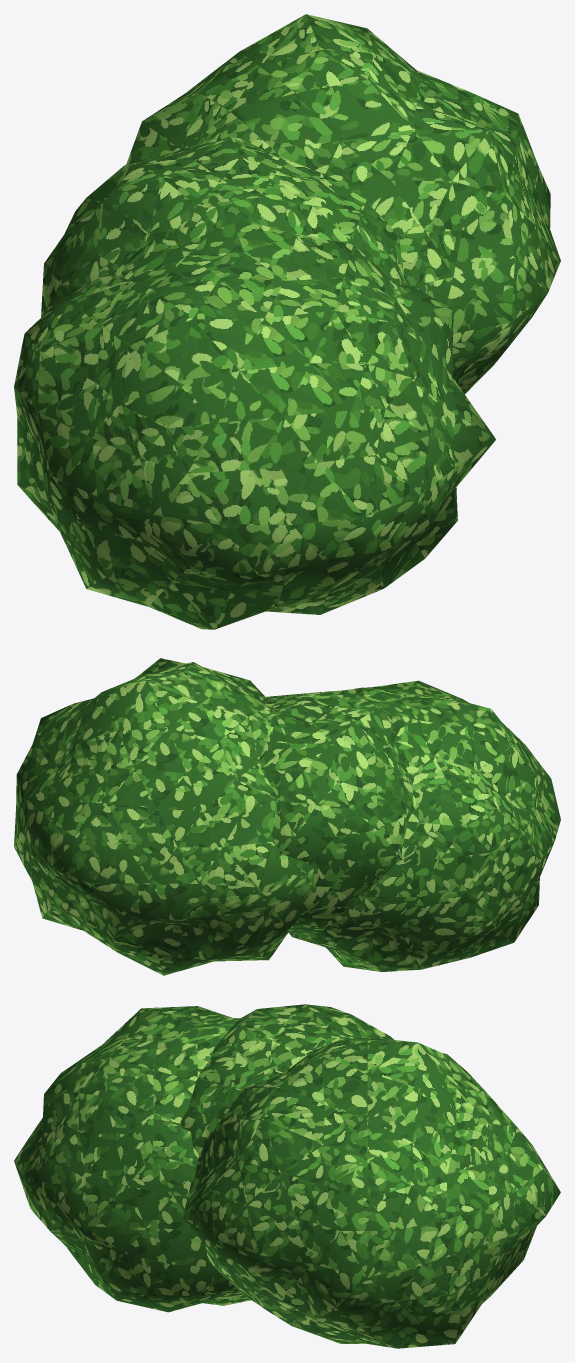
File: bush_b.glb
3 renders of one model, top to bottom at view 1: azimuth 30°, elevation 25°; view 2: azimuth 150°, elevation 25°; view 3: azimuth 270°, elevation 25°, orthographic. The views are drawn at different scales.
Parts seen in each view (by area): view 1: bush_b; view 2: bush_b; view 3: bush_b.
Part boxes in pixels (x1,y1,x2,y2): bush_b: [14, 14, 560, 629]; bush_b: [14, 658, 560, 975]; bush_b: [14, 1004, 560, 1348].
Bounding box in the file's own units: 1.68 × 1.13 × 1.72.
Materials: 1 (1 with a texture image).
